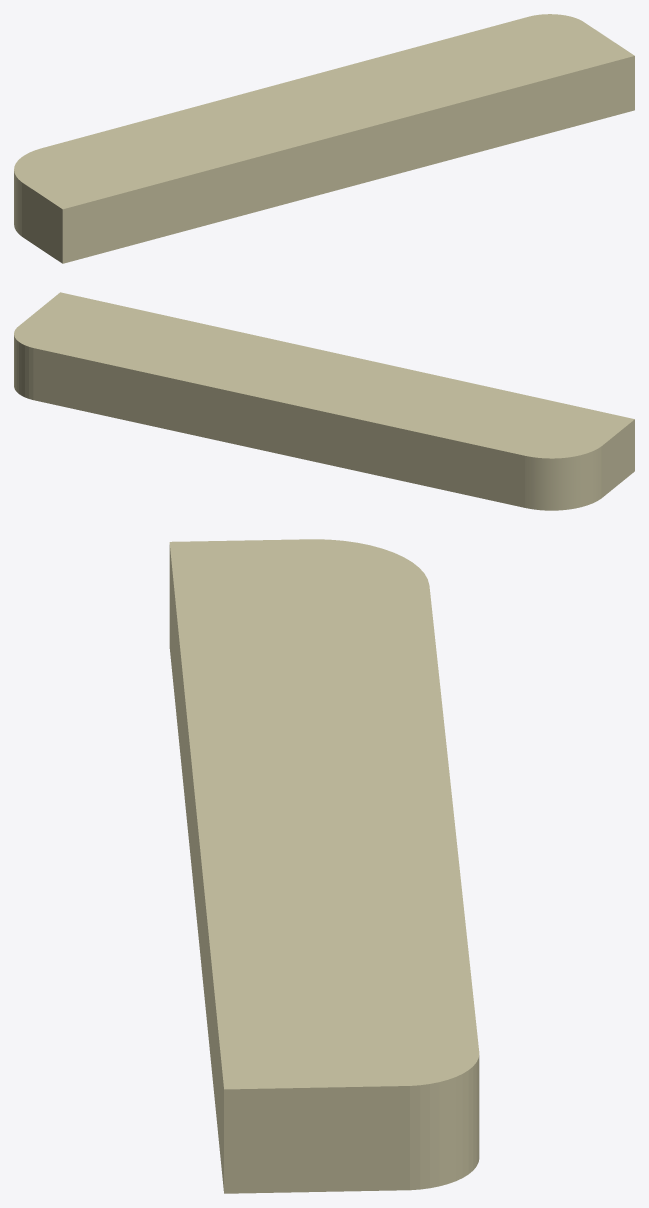
The model's file is SM_WhiteModel_3.FBX.
3 views of the same model, one above another, from view 1: azimuth 30°, elevation 25°; view 2: azimuth 150°, elevation 25°; view 3: azimuth 270°, elevation 25° (orthographic). The views are drawn at different scales.
Visible parts, largest first — view 1: SM_WhiteModel_3; view 2: SM_WhiteModel_3; view 3: SM_WhiteModel_3.
Part boxes in pixels (x1,y1,x2,y2): SM_WhiteModel_3: [14, 14, 634, 263]; SM_WhiteModel_3: [14, 292, 634, 510]; SM_WhiteModel_3: [169, 539, 479, 1193].
Size of the model in its own units: 10182 by 2423 by 900.
